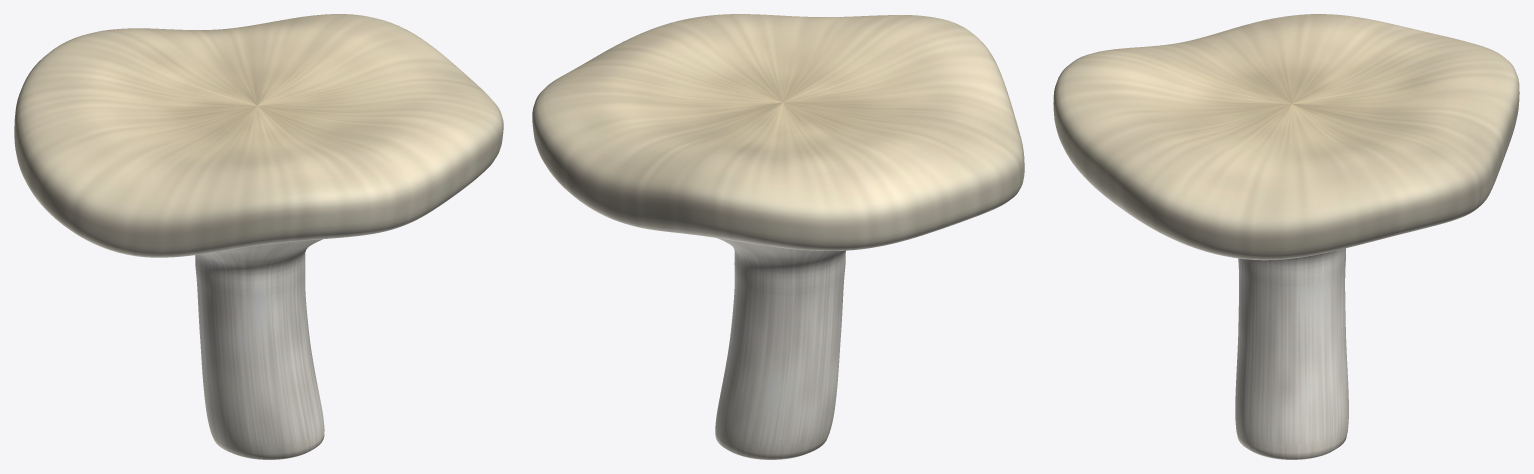
File: albatrellus-ovinus-drawn.glb
3 renders of one model, left to right at view 1: azimuth 30°, elevation 25°; view 2: azimuth 150°, elevation 25°; view 3: azimuth 270°, elevation 25°, orthographic. The views are drawn at different scales.
Size of the model in its own units: 0.8555 by 0.6786 by 0.8237.
1 material, 1 textured.
